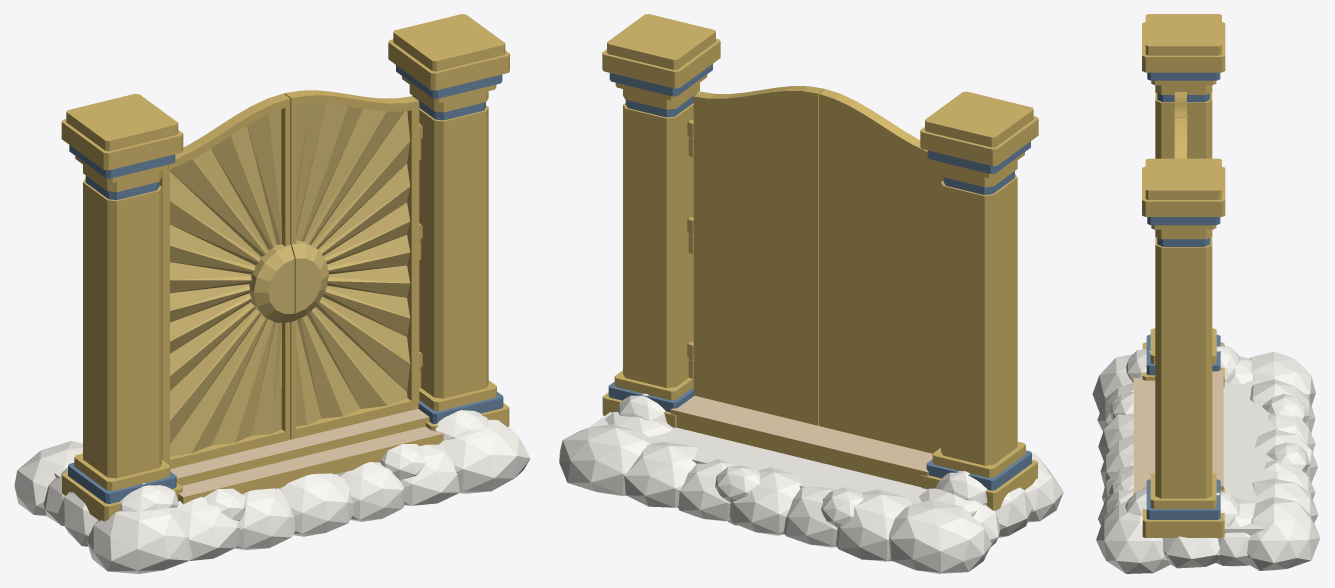
File: golden-gate-of-olympus-6b6ccc.glb
3 renders of one model, left to right at view 1: azimuth 30°, elevation 25°; view 2: azimuth 150°, elevation 25°; view 3: azimuth 270°, elevation 25°, orthographic. The views are drawn at different scales.
Parts seen in each view (by area): view 1: pylons, leaf-left-mesh, leaf-right-mesh, cloud-and-threshold; view 2: pylons, cloud-and-threshold, leaf-right-mesh, leaf-left-mesh; view 3: pylons, cloud-and-threshold, leaf-right-mesh, leaf-left-mesh.
Boxes of the visible parts, x1,y1,x2,y2 form: pylons: (61,14,509,521); leaf-left-mesh: (159,93,294,468); leaf-right-mesh: (284,90,421,439); cloud-and-threshold: (14,409,530,573); pylons: (602,14,1038,510); cloud-and-threshold: (559,393,1063,573); leaf-right-mesh: (688,86,824,425); leaf-left-mesh: (819,89,943,453); pylons: (1133,14,1225,537); cloud-and-threshold: (1092,345,1320,573); leaf-right-mesh: (1174,118,1186,158); leaf-left-mesh: (1174,92,1187,147).
Size of the model in its own units: 8 by 7.8 by 4.
